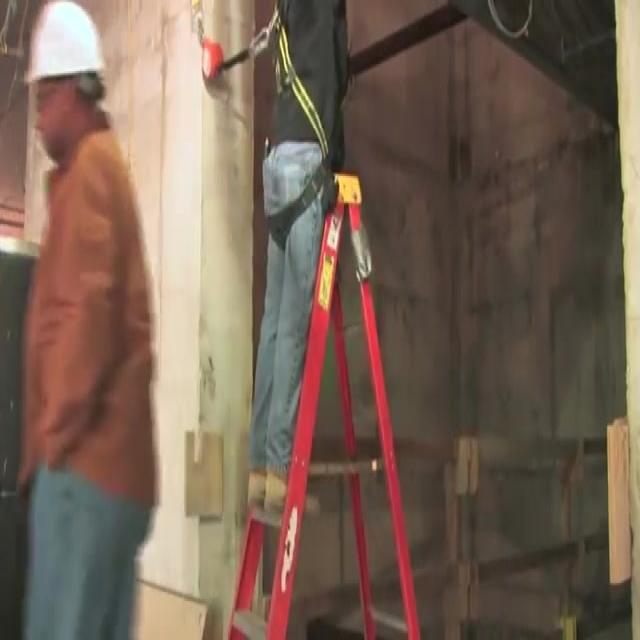Reflective-Jacket: (9, 121, 165, 412)
Safety-Helmet: (19, 0, 116, 101)
